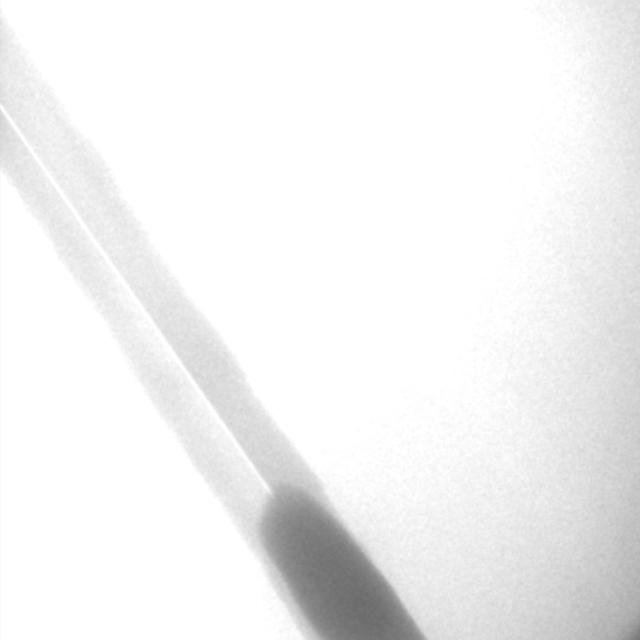broken arc: (1, 106, 274, 499)
